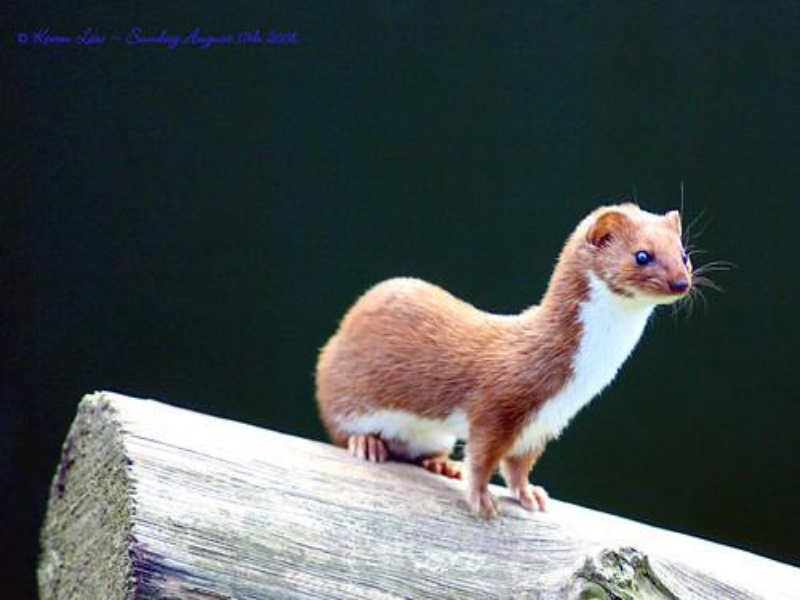minkish: (311, 201, 697, 520)
